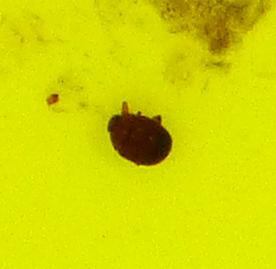Coleoptera: (100, 100, 176, 169)
